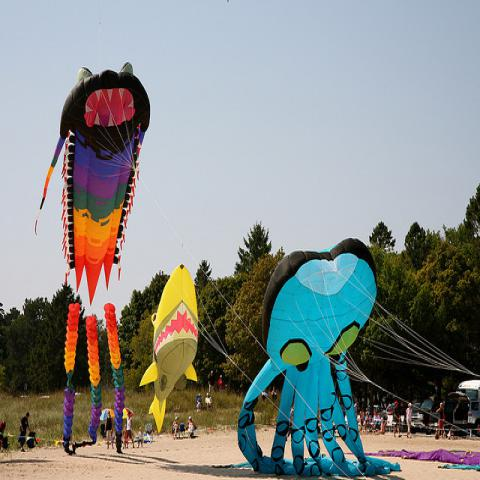car: (412, 400, 440, 428), (374, 406, 386, 419)
